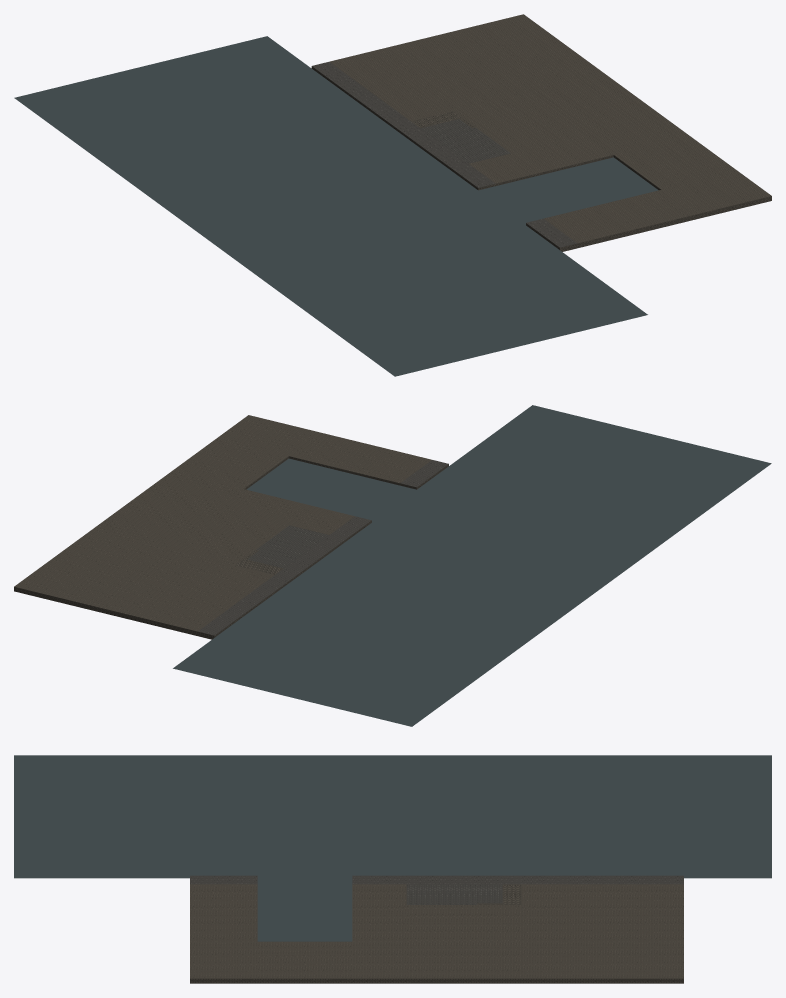
Rendered from A_ground.glb.
3 views of the same model, one above another, from view 1: azimuth 30°, elevation 25°; view 2: azimuth 150°, elevation 25°; view 3: azimuth 270°, elevation 25° (orthographic). The views are drawn at different scales.
Visible parts, largest first — view 1: A_ground; view 2: A_ground; view 3: A_ground.
Boxes of the visible parts, x1,y1,x2,y2 form: A_ground: (14,14,771,376); A_ground: (14,405,771,726); A_ground: (14,755,771,983).
Size of the model in its own units: 790 by 8 by 1120.
Materials: 5 (4 with a texture image).
